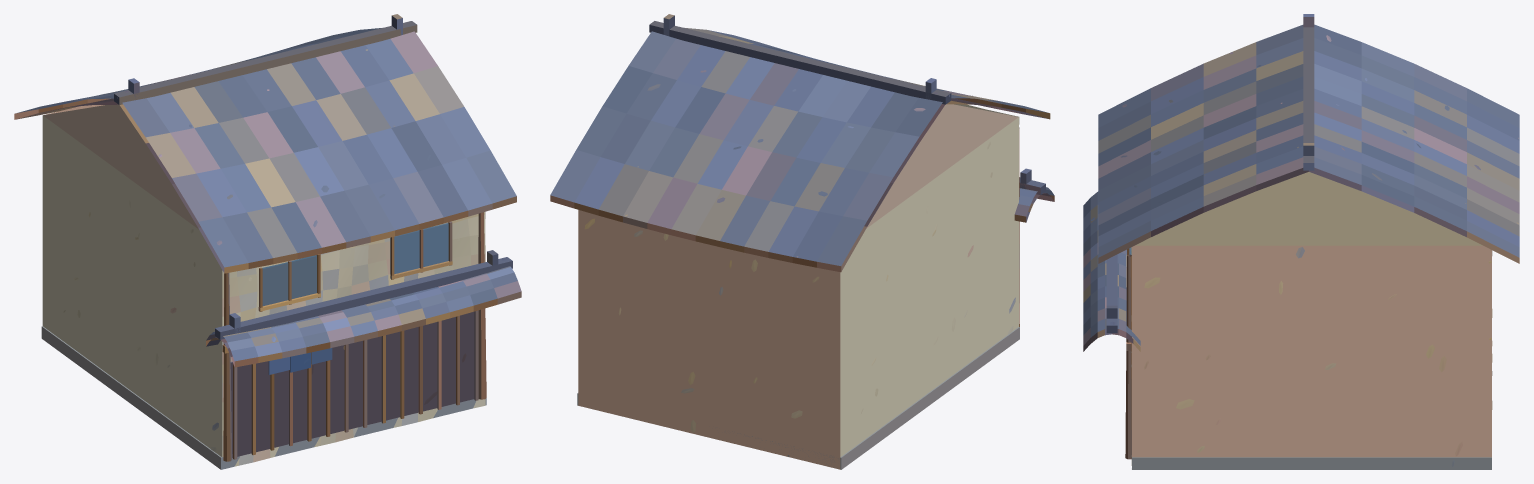
Rendered from HK_Machiya_A.lod.glb.
3 views of the same model, side by side, from view 1: azimuth 30°, elevation 25°; view 2: azimuth 150°, elevation 25°; view 3: azimuth 270°, elevation 25° (orthographic).
Visible parts, largest first — view 1: HK_Machiya_A; view 2: HK_Machiya_A; view 3: HK_Machiya_A.
Part boxes in pixels (x1,y1,x2,y2): HK_Machiya_A: (14,14,521,469); HK_Machiya_A: (550,14,1054,469); HK_Machiya_A: (1083,14,1519,469).
Size of the model in its own units: 8.16 by 8.47 by 10.3.
